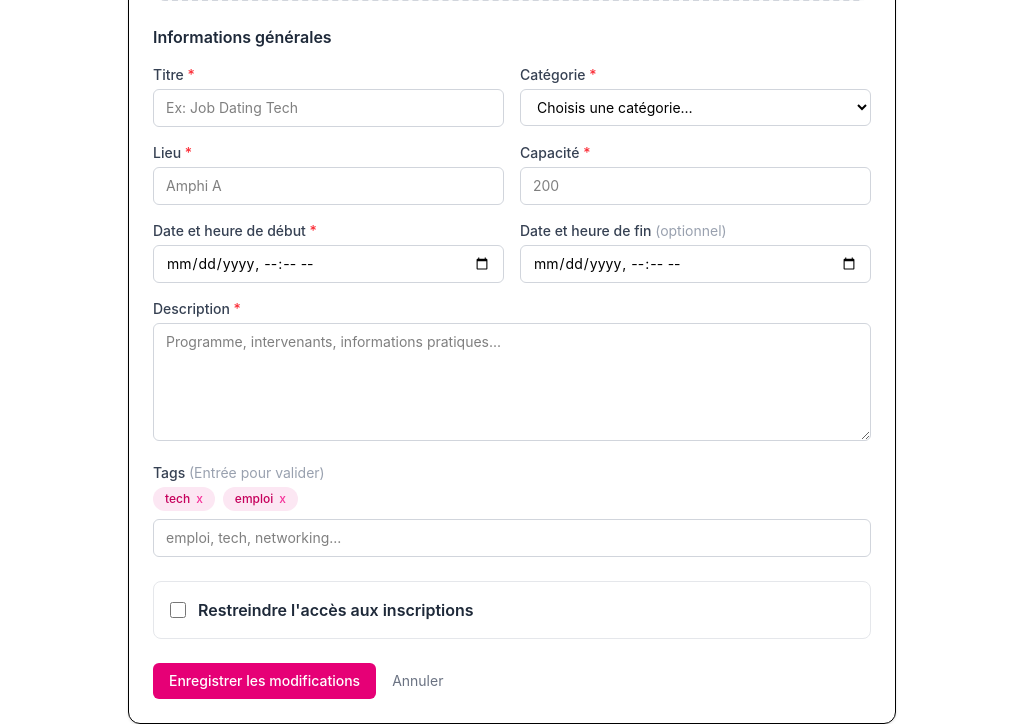
EventEditPage › shows validation errors when submitting empty required fields
The image size is (1024, 724).
(page scrolled)
Click the button "Enregistrer les modifications": coordinates (265, 681) [153,663,376,699]
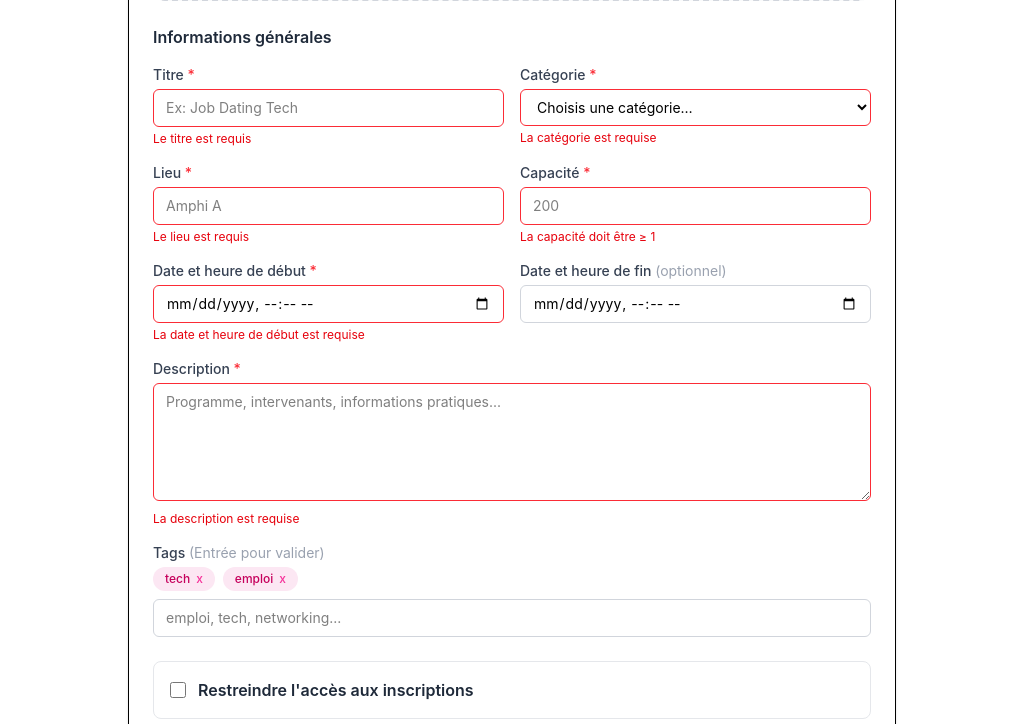
Expected: the text "Le titre est requis" is shown, [153,131,251,146]
